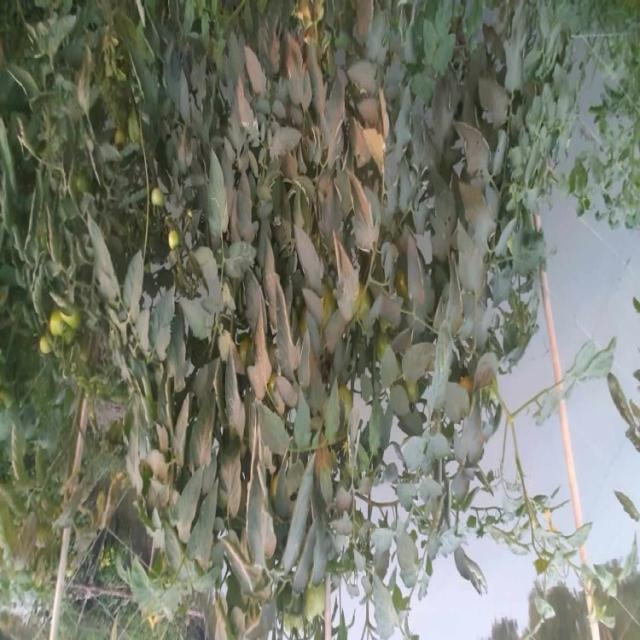tomato: (296, 580, 328, 623), (50, 304, 88, 335), (136, 179, 166, 216), (47, 304, 73, 334), (32, 331, 57, 356), (168, 225, 187, 255)
